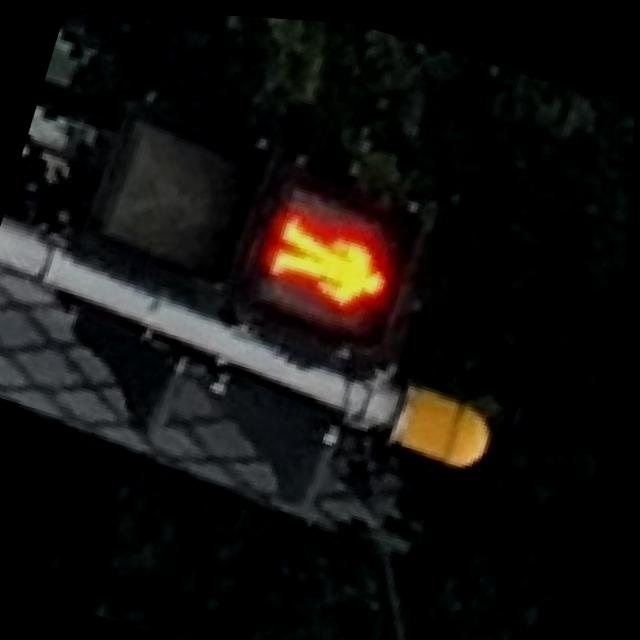red_light: (246, 176, 422, 341)
